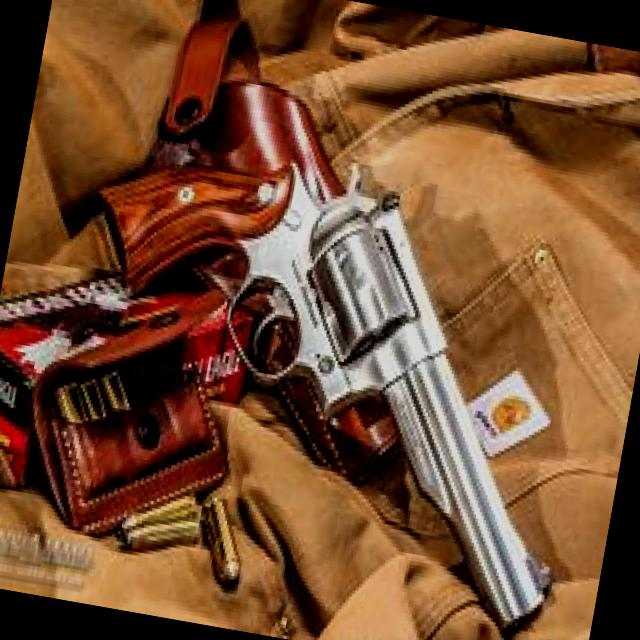revolver: (27, 10, 640, 636)
